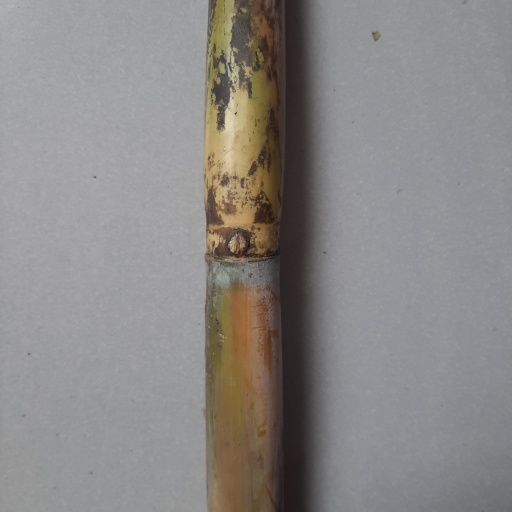Bud: (226, 233, 248, 257)
